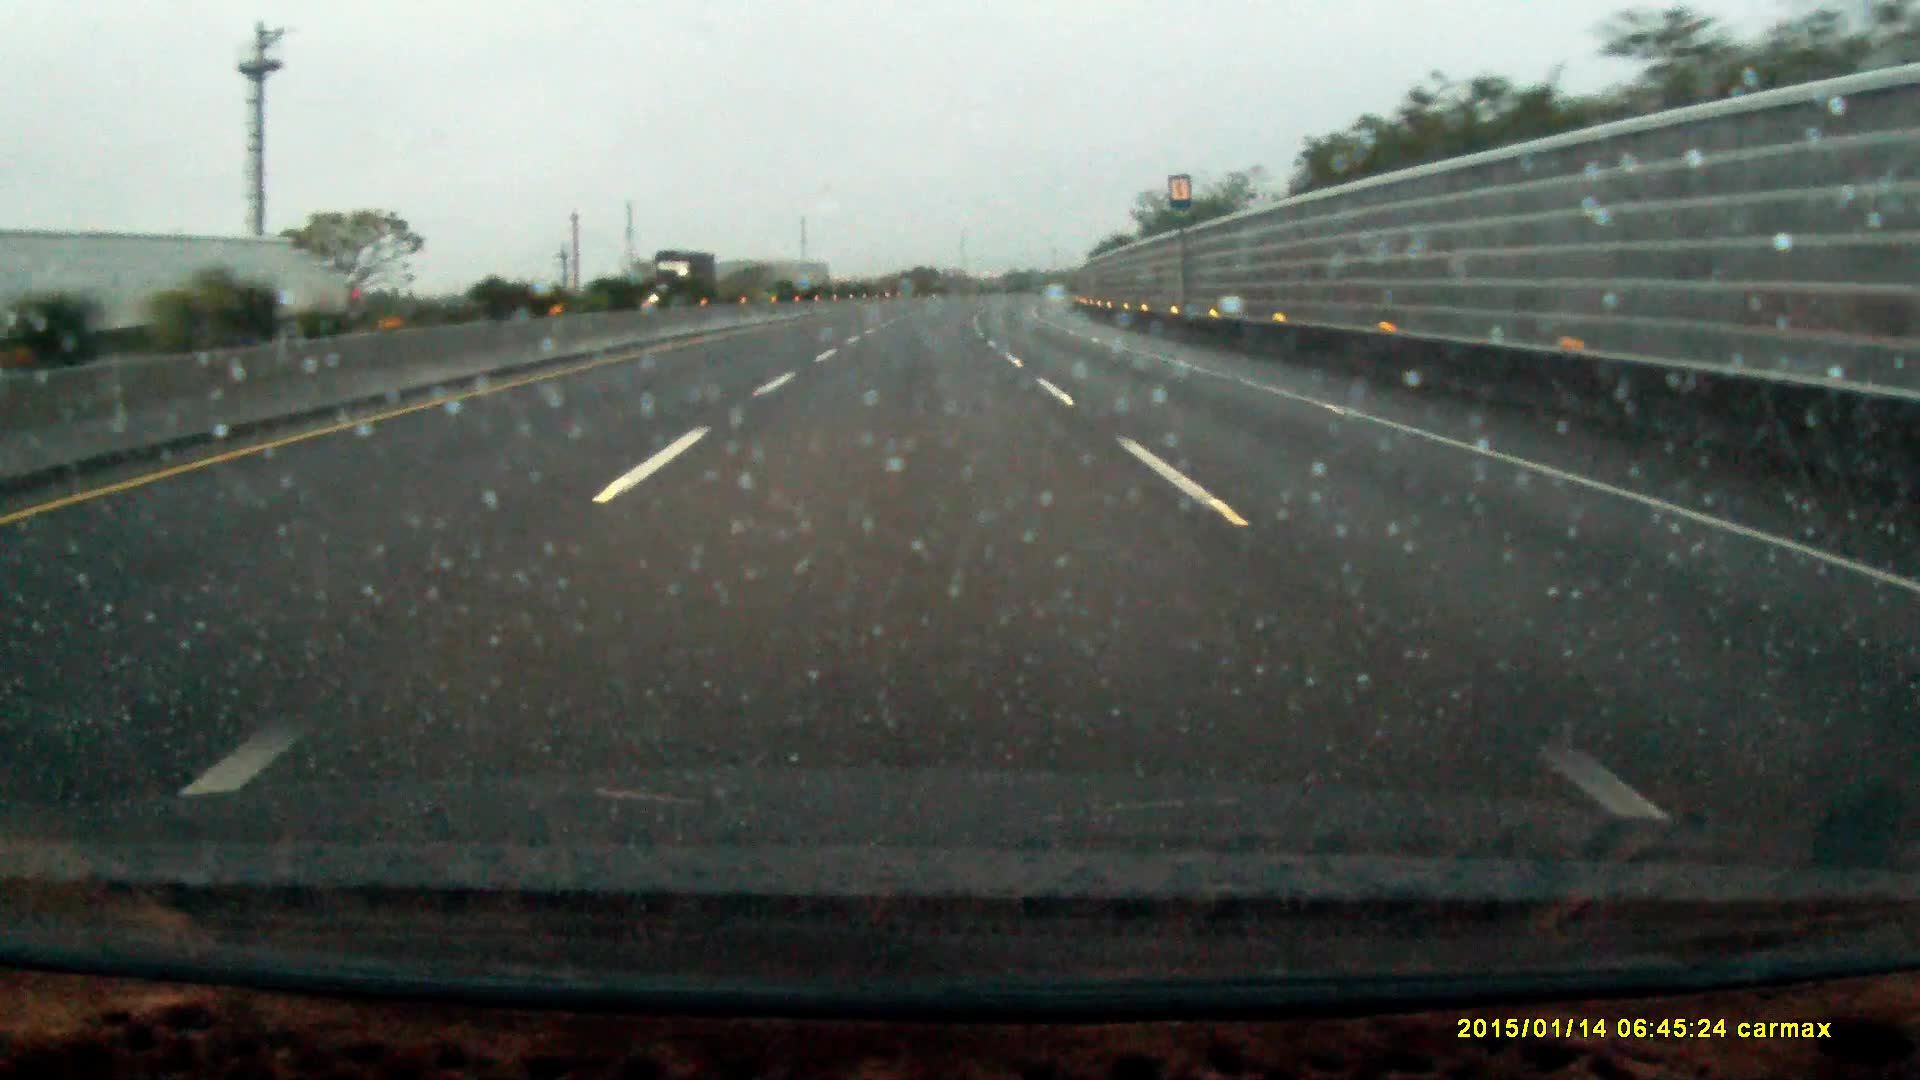vehicle: (651, 251, 720, 307)
